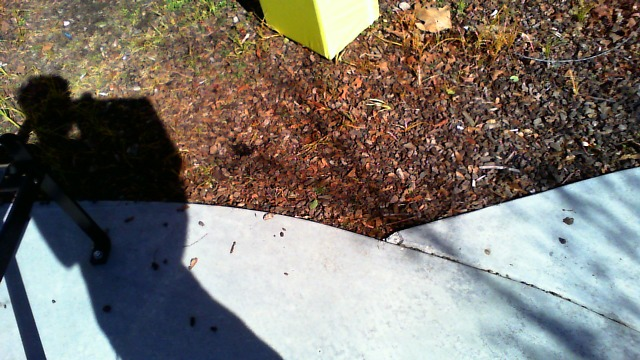cube: (255, 1, 380, 62)
